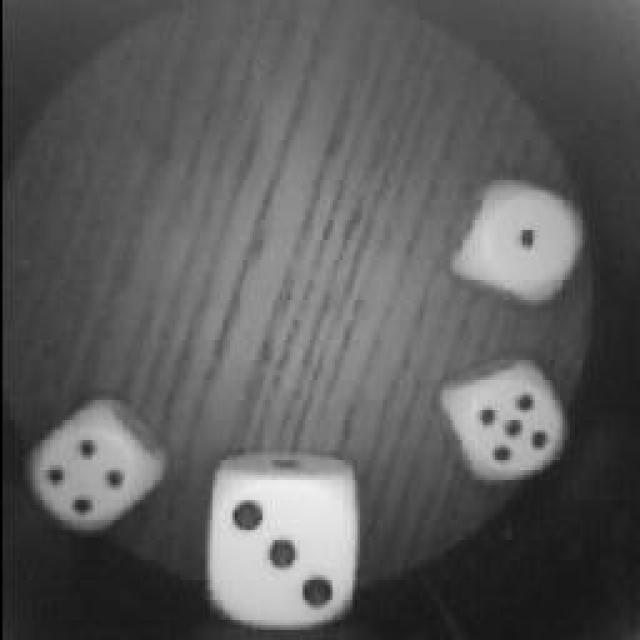dice_1: (463, 185, 585, 297)
dice_3: (200, 458, 360, 622)
dice_4: (23, 402, 155, 530)
dice_5: (445, 363, 565, 485)
